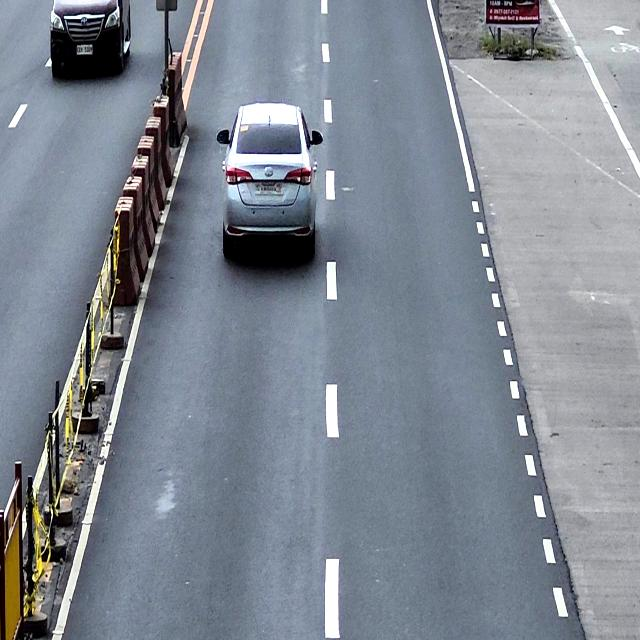Car: (215, 101, 323, 259), (49, 0, 131, 79)
License-Plate: (254, 182, 284, 196), (75, 44, 94, 56)
